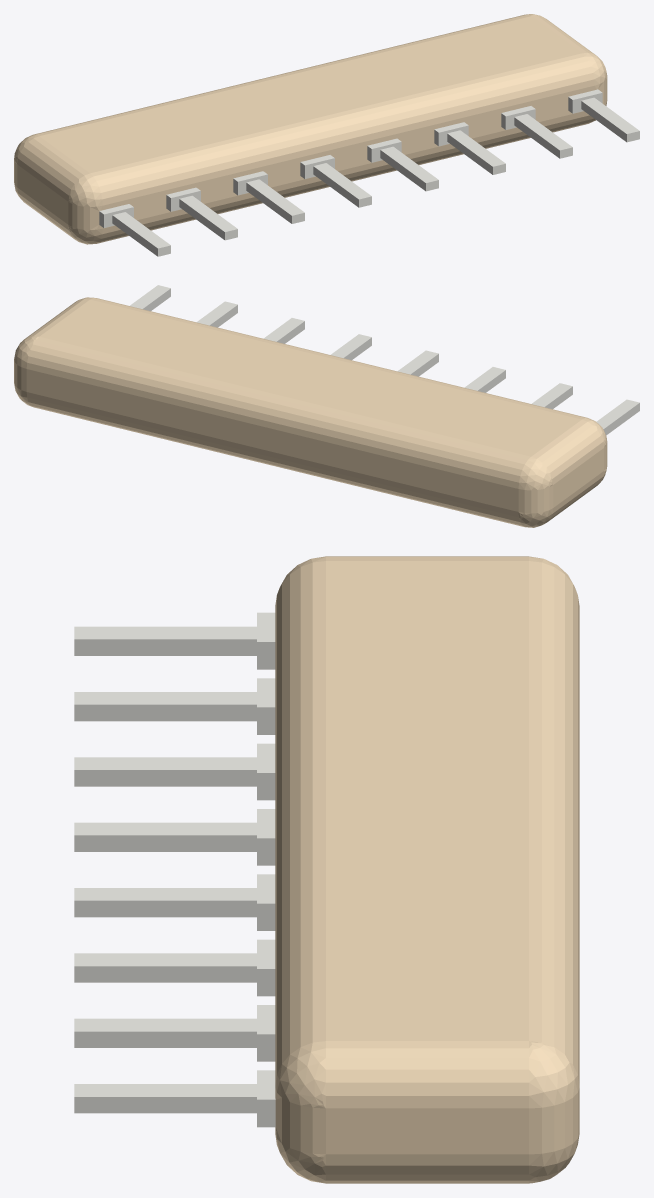
File: R_Array_SIP8.glb
3 renders of one model, top to bottom at view 1: azimuth 30°, elevation 25°; view 2: azimuth 150°, elevation 25°; view 3: azimuth 270°, elevation 25°, orthographic. The views are drawn at different scales.
Parts seen in each view (by area): view 1: Shape_IndexedFaceSet.057, Shape_IndexedFaceSet.019, Shape_IndexedFaceSet.007, Shape_IndexedFaceSet.003, Shape_IndexedFaceSet.051, Shape_IndexedFaceSet.052, Shape_IndexedFaceSet.013, Shape_IndexedFaceSet.056, Shape_IndexedFaceSet.020, Shape_IndexedFaceSet.082, Shape_IndexedFaceSet.086, Shape_IndexedFaceSet.094 (+17 smaller); view 2: Shape_IndexedFaceSet.057, Shape_IndexedFaceSet.052, Shape_IndexedFaceSet.014, Shape_IndexedFaceSet.006, Shape_IndexedFaceSet.051, Shape_IndexedFaceSet.019, Shape_IndexedFaceSet.013, Shape_IndexedFaceSet.067, Shape_IndexedFaceSet.050, Shape_IndexedFaceSet.005, Shape_IndexedFaceSet.049, Shape_IndexedFaceSet.074 (+9 smaller); view 3: Shape_IndexedFaceSet.057, Shape_IndexedFaceSet.052, Shape_IndexedFaceSet.019, Shape_IndexedFaceSet.049, Shape_IndexedFaceSet.011, Shape_IndexedFaceSet.004, Shape_IndexedFaceSet.077, Shape_IndexedFaceSet.085, Shape_IndexedFaceSet.069, Shape_IndexedFaceSet.073, Shape_IndexedFaceSet.081, Shape_IndexedFaceSet.089 (+17 smaller).
Part boxes in pixels (x1,y1,x2,y2): Shape_IndexedFaceSet.057: [39, 16, 581, 173]; Shape_IndexedFaceSet.019: [90, 53, 594, 205]; Shape_IndexedFaceSet.007: [102, 85, 594, 228]; Shape_IndexedFaceSet.003: [97, 111, 592, 243]; Shape_IndexedFaceSet.051: [17, 136, 89, 201]; Shape_IndexedFaceSet.052: [34, 14, 530, 135]; Shape_IndexedFaceSet.013: [17, 165, 68, 224]; Shape_IndexedFaceSet.056: [68, 173, 102, 206]; Shape_IndexedFaceSet.020: [68, 202, 102, 229]; Shape_IndexedFaceSet.082: [313, 163, 371, 199]; Shape_IndexedFaceSet.086: [179, 195, 237, 231]; Shape_IndexedFaceSet.094: [447, 130, 505, 166]; Shape_IndexedFaceSet.057: [40, 299, 581, 456]; Shape_IndexedFaceSet.052: [26, 336, 530, 488]; Shape_IndexedFaceSet.014: [26, 369, 518, 511]; Shape_IndexedFaceSet.006: [26, 392, 523, 526]; Shape_IndexedFaceSet.051: [531, 419, 603, 484]; Shape_IndexedFaceSet.019: [90, 298, 587, 419]; Shape_IndexedFaceSet.013: [553, 448, 603, 507]; Shape_IndexedFaceSet.067: [518, 456, 552, 490]; Shape_IndexedFaceSet.050: [518, 485, 553, 513]; Shape_IndexedFaceSet.005: [548, 471, 603, 521]; Shape_IndexedFaceSet.049: [25, 299, 89, 338]; Shape_IndexedFaceSet.074: [596, 399, 639, 428]; Shape_IndexedFaceSet.057: [326, 561, 528, 1040]; Shape_IndexedFaceSet.052: [529, 561, 579, 1084]; Shape_IndexedFaceSet.019: [275, 561, 325, 1084]; Shape_IndexedFaceSet.049: [326, 1041, 528, 1108]; Shape_IndexedFaceSet.011: [326, 1108, 528, 1154]; Shape_IndexedFaceSet.004: [326, 1154, 528, 1183]; Shape_IndexedFaceSet.077: [74, 900, 256, 917]; Shape_IndexedFaceSet.085: [74, 704, 256, 721]; Shape_IndexedFaceSet.069: [74, 1097, 256, 1113]; Shape_IndexedFaceSet.073: [74, 639, 256, 655]; Shape_IndexedFaceSet.081: [74, 835, 256, 851]; Shape_IndexedFaceSet.089: [74, 770, 256, 786].
Bounding box in the file's own units: 8 × 0.988 × 3.27.
